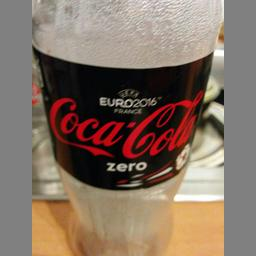soda: (30, 0, 220, 255)
